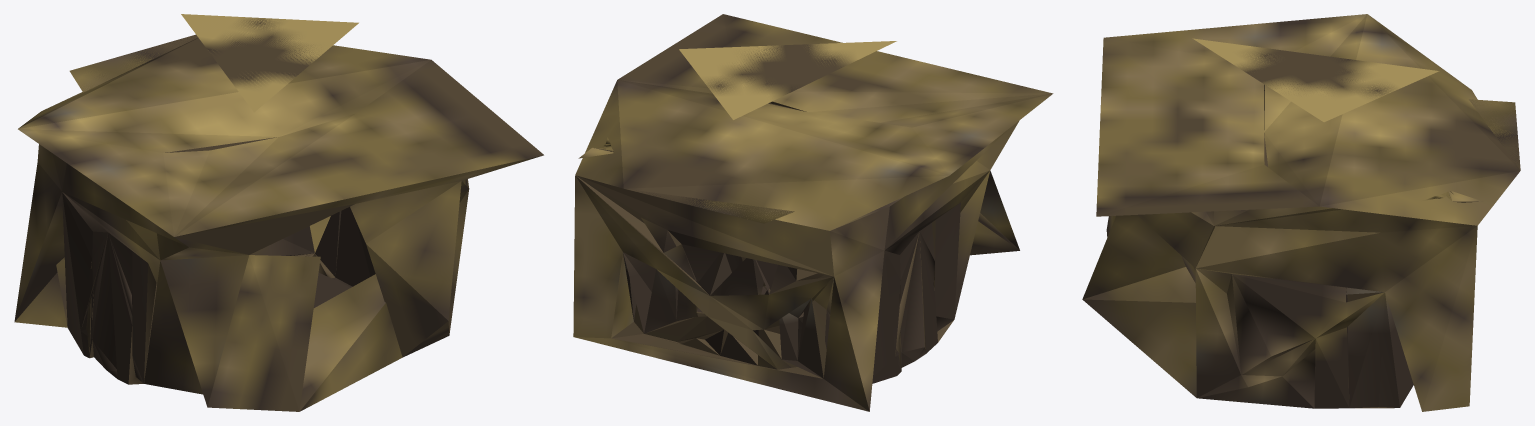
The model's file is SM_MeshySacks.fbx.
3 renders of one model, left to right at view 1: azimuth 30°, elevation 25°; view 2: azimuth 150°, elevation 25°; view 3: azimuth 270°, elevation 25°, orthographic. The views are drawn at different scales.
Parts seen in each view (by area): view 1: SM_MeshySacks; view 2: SM_MeshySacks; view 3: SM_MeshySacks.
Part boxes in pixels (left/top/right/bottom): SM_MeshySacks: left=14, top=14, right=543, bottom=411; SM_MeshySacks: left=573, top=14, right=1053, bottom=411; SM_MeshySacks: left=1082, top=14, right=1520, bottom=411.
Bounding box in the file's own units: 1.08 × 0.7577 × 1.08.
1 material, 1 textured.
